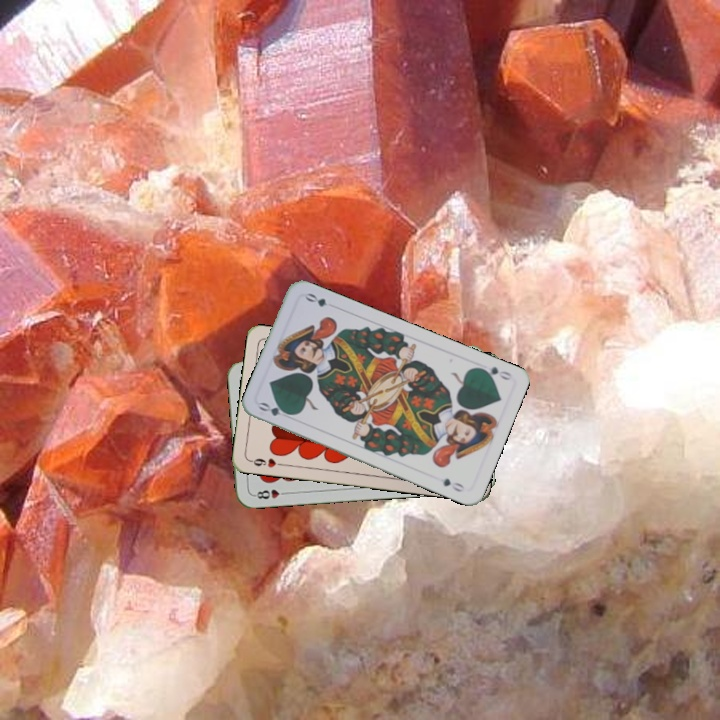GO: (255, 398, 296, 422), (474, 362, 514, 383)
H8: (250, 485, 291, 502)
H9: (246, 454, 287, 470)
